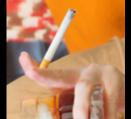Cigarette: (35, 9, 76, 72)
